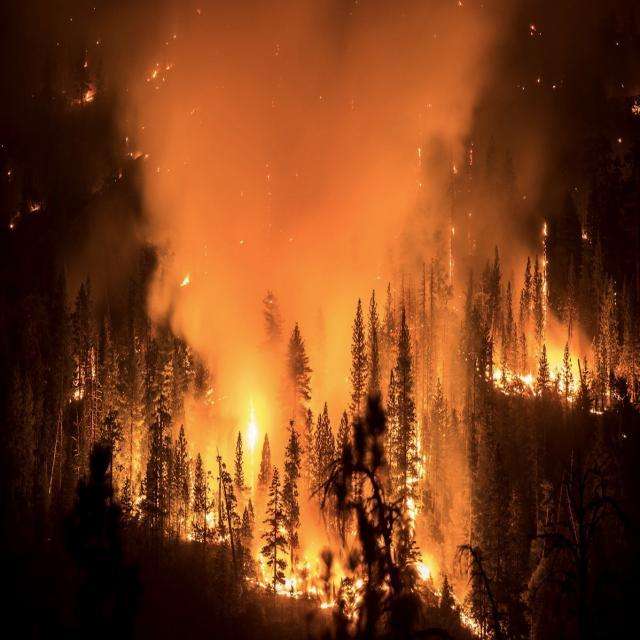Fire: (215, 509, 339, 612), (497, 350, 582, 399), (400, 480, 436, 590), (230, 408, 270, 470)
Smoke: (119, 2, 468, 344)
